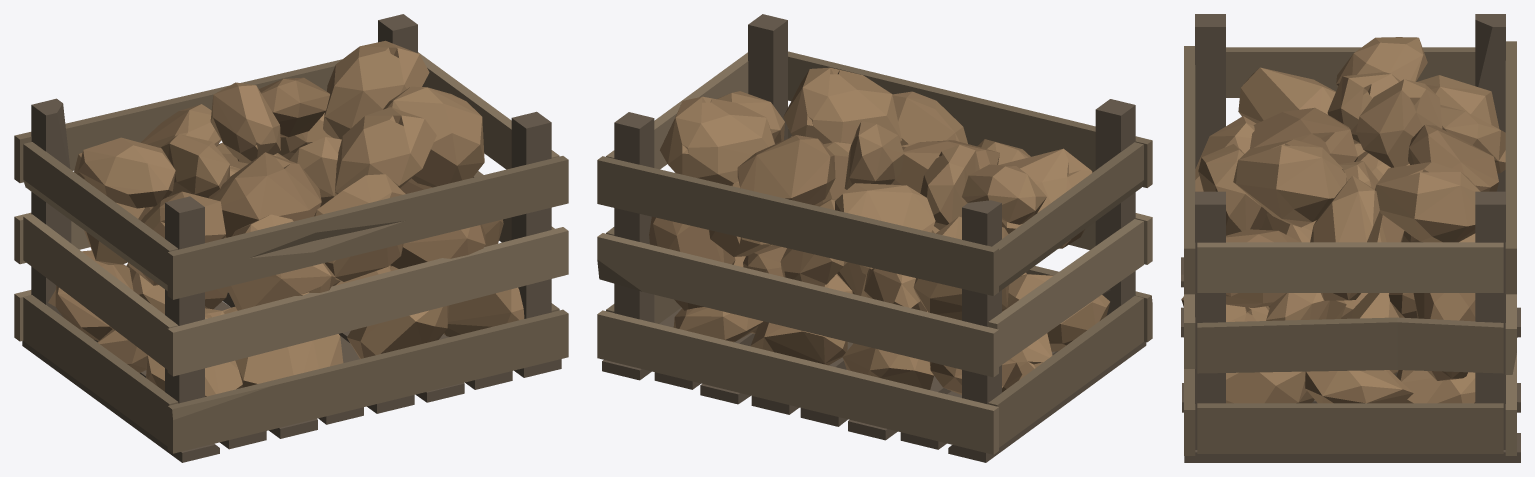
File: SM_Props_Farm_Crate_Filled_Potato.fbx
3 renders of one model, left to right at view 1: azimuth 30°, elevation 25°; view 2: azimuth 150°, elevation 25°; view 3: azimuth 270°, elevation 25°, orthographic. The views are drawn at different scales.
Visible parts, largest first — view 1: SM_Props_Farm_Crate_Filled_Potato; view 2: SM_Props_Farm_Crate_Filled_Potato; view 3: SM_Props_Farm_Crate_Filled_Potato.
Boxes of the visible parts, x1,y1,x2,y2 form: SM_Props_Farm_Crate_Filled_Potato: (14, 14, 568, 462); SM_Props_Farm_Crate_Filled_Potato: (597, 14, 1152, 462); SM_Props_Farm_Crate_Filled_Potato: (1181, 14, 1520, 462).
Bounding box in the file's own units: 103 × 64.28 × 72.8.
